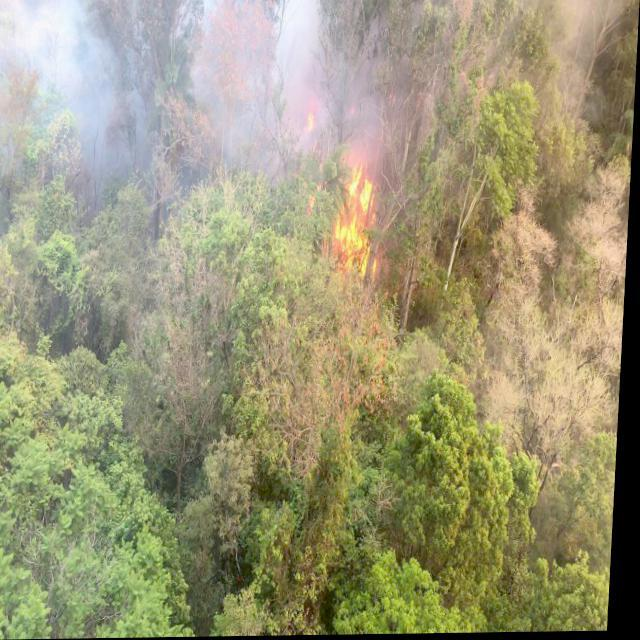Fire: (324, 150, 396, 283), (304, 95, 320, 137)
